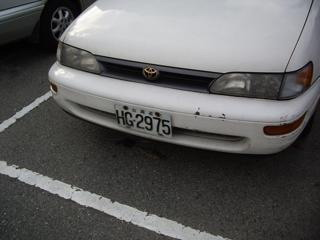plate: (113, 101, 174, 140)
